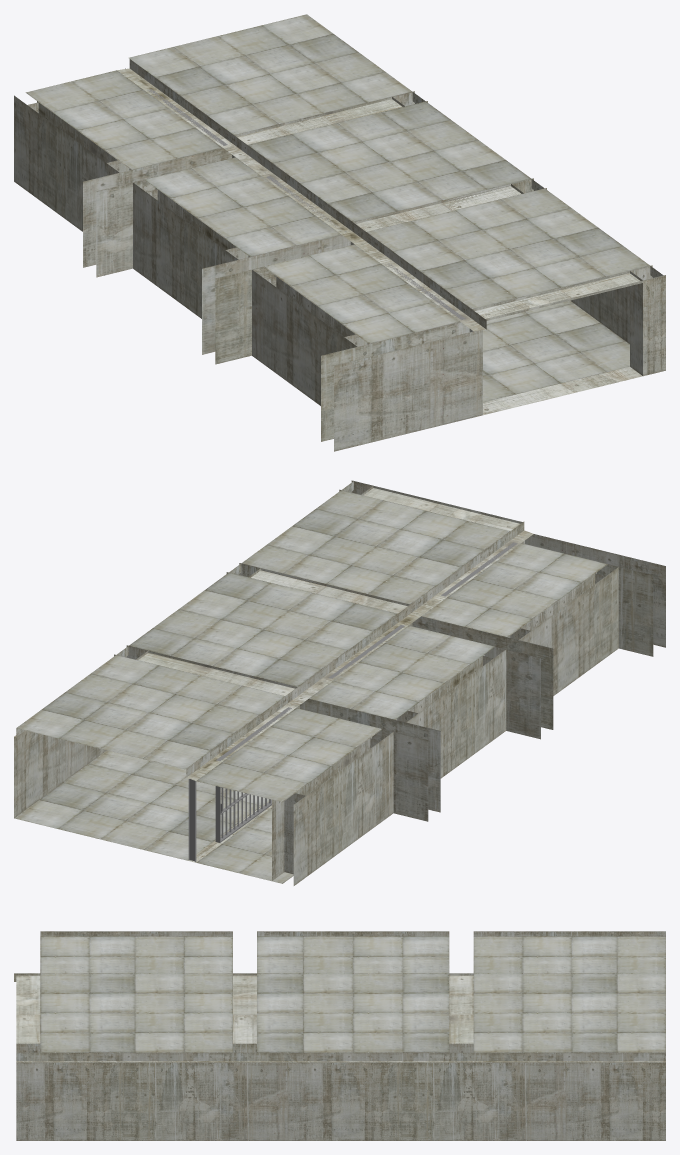
Rendered from Jails_Parts_Set_I.fbx.
3 views of the same model, one above another, from view 1: azimuth 30°, elevation 25°; view 2: azimuth 150°, elevation 25°; view 3: azimuth 270°, elevation 25° (orthographic). The views are drawn at different scales.
Visible parts, largest first — view 1: floor01, wall01; view 2: floor01, wall01, fence01; view 3: floor01, wall01.
Part boxes in pixels (x1,y1,x2,y2): floor01: (25,14,649,402); wall01: (14,59,665,451); floor01: (14,490,607,883); wall01: (14,480,665,885); fence01: (188,707,291,862); floor01: (40,936,665,1052); wall01: (14,931,665,1140).
Size of the model in its own units: 1450 by 400 by 2710.
